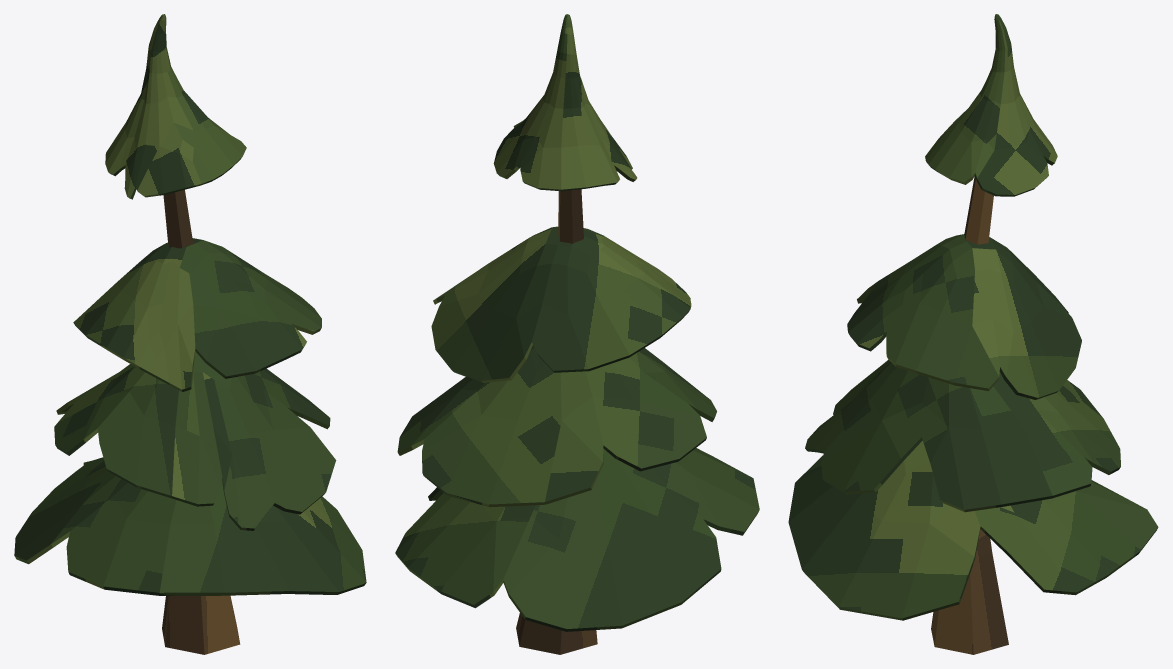
File: Nature_Pine.fbx
3 views of the same model, side by side, from view 1: azimuth 30°, elevation 25°; view 2: azimuth 150°, elevation 25°; view 3: azimuth 270°, elevation 25° (orthographic). The views are drawn at different scales.
Visible parts, largest first — view 1: Nature_Pine; view 2: Nature_Pine; view 3: Nature_Pine.
Boxes of the visible parts, x1,y1,x2,y2 form: Nature_Pine: [14, 14, 366, 654]; Nature_Pine: [395, 14, 759, 654]; Nature_Pine: [788, 14, 1158, 654].
Size of the model in its own units: 302 by 600 by 329.
